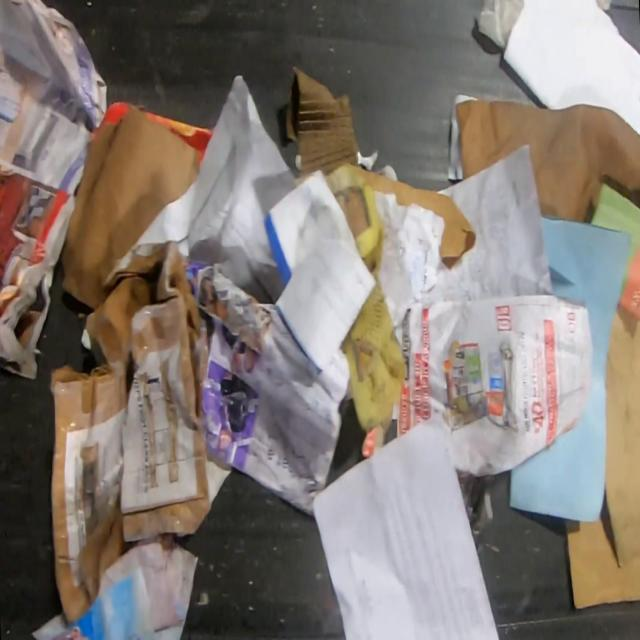cardboard: (46, 239, 214, 624), (58, 103, 201, 389), (324, 164, 475, 260), (604, 304, 640, 566), (284, 61, 363, 179), (564, 489, 640, 609), (145, 110, 213, 162), (334, 187, 369, 240), (103, 100, 129, 124)
soft_plastic: (476, 0, 524, 50)
